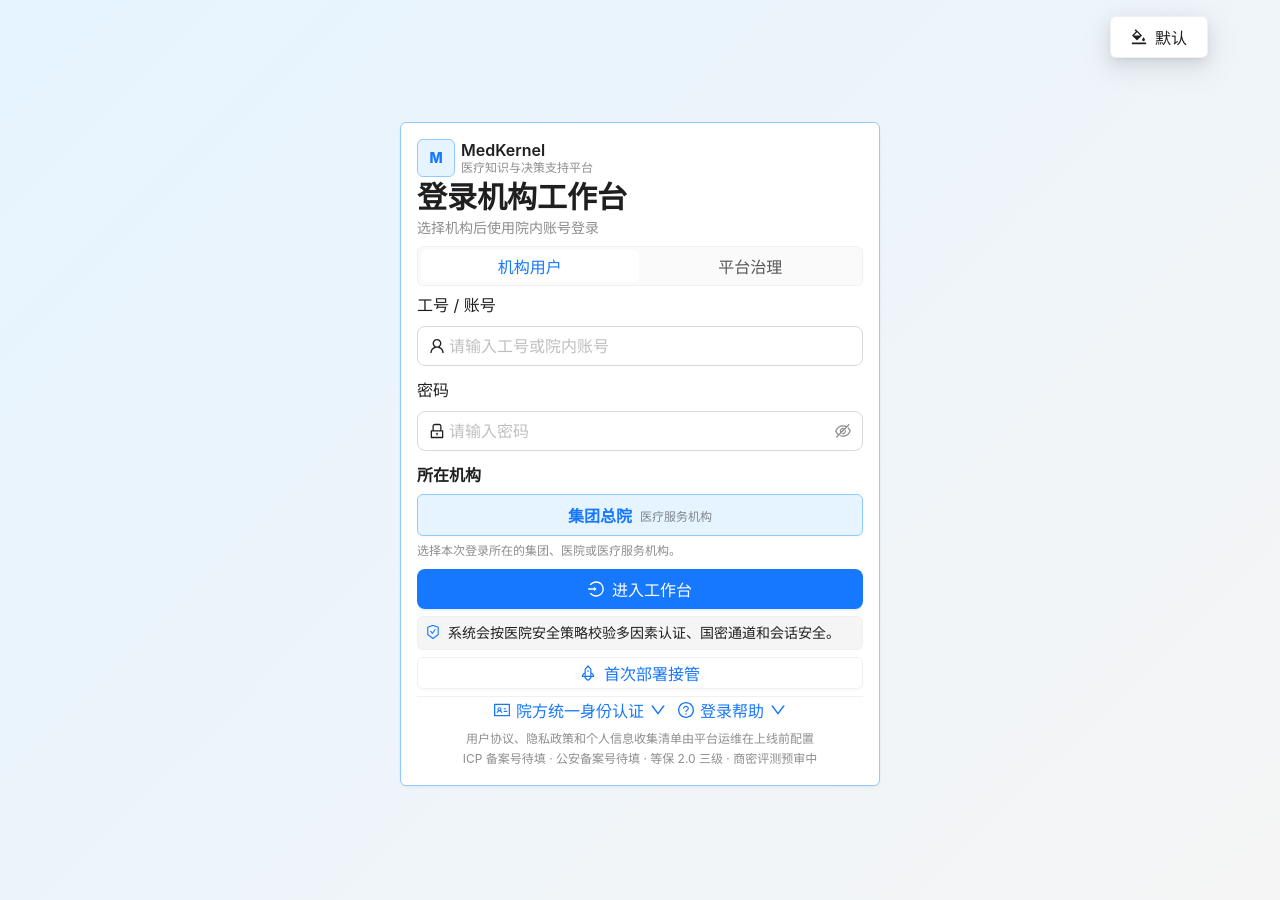
Login › 统一身份状态不返回提供方时不展示本地伪造方式
Click the button "院方统一身份认证" at (580, 710), box [493, 697, 667, 723]
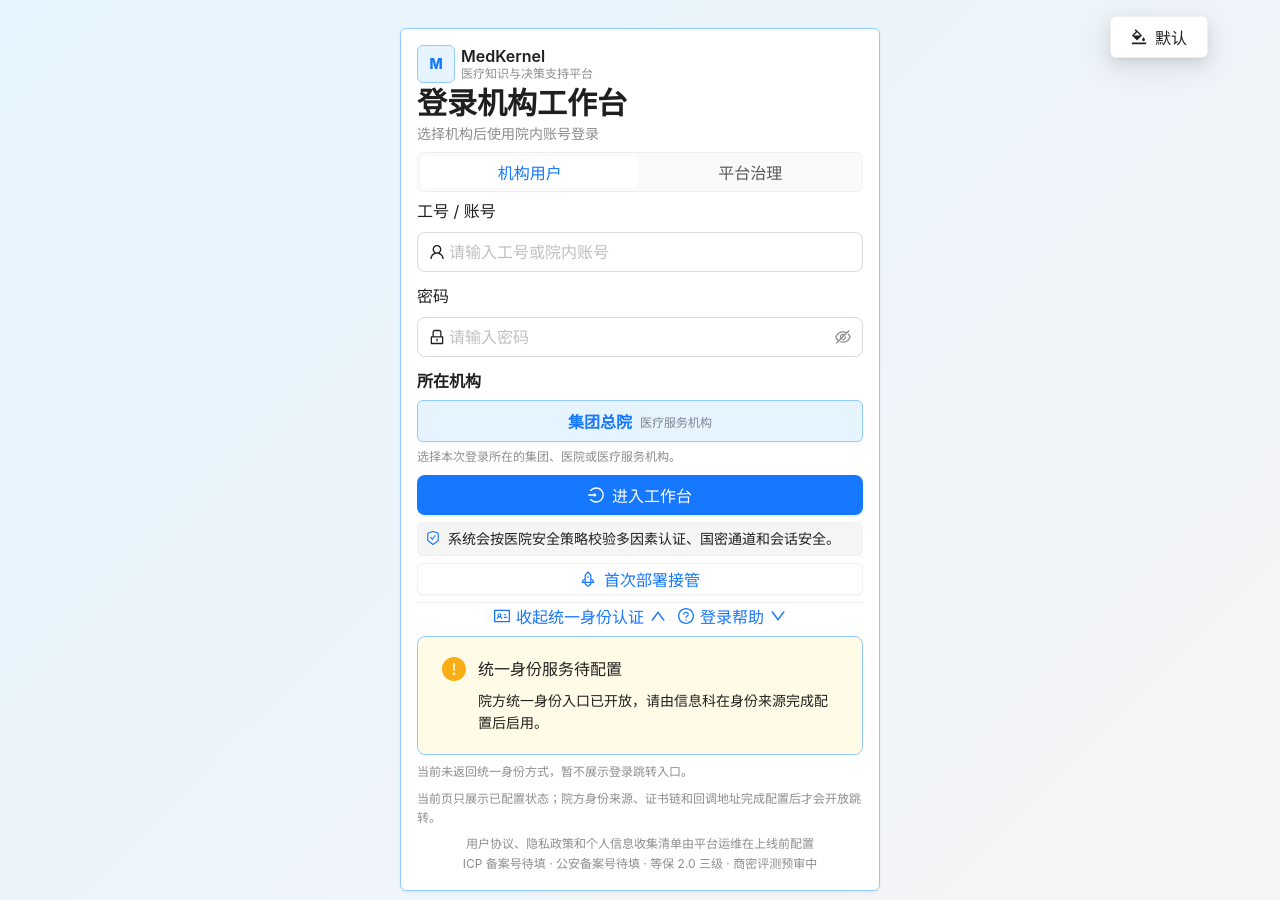
Now the text "当前未返回统一身份方式，暂不展示登录跳转入口。" is shown, box [417, 764, 693, 779]
